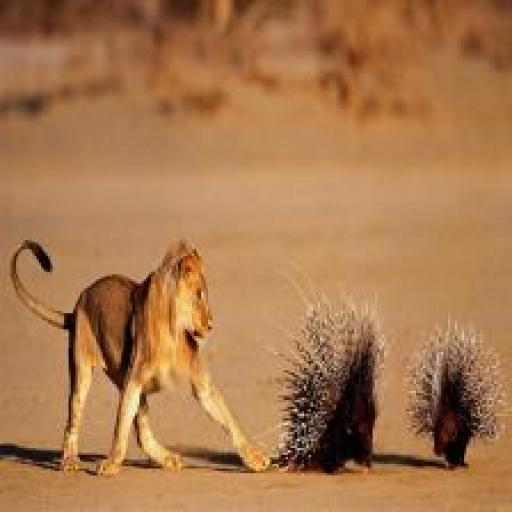lion: (9, 236, 273, 476)
